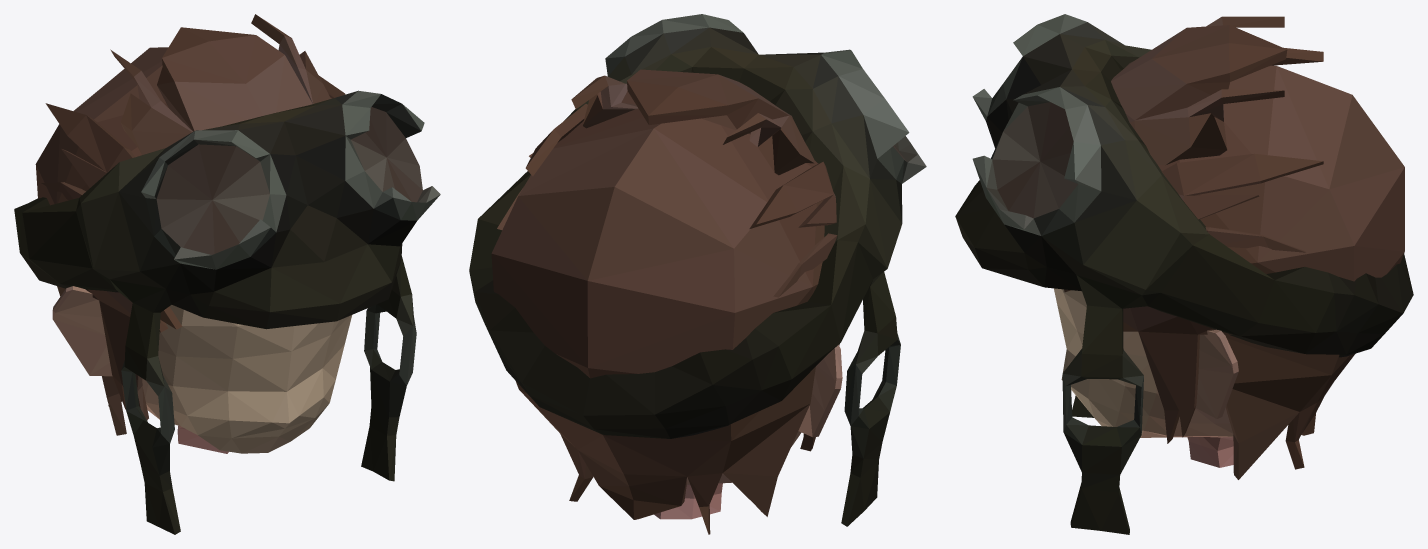
The model's file is helm_lightskin_spike_brown_goggles.fbx.
3 renders of one model, left to right at view 1: azimuth 30°, elevation 25°; view 2: azimuth 150°, elevation 25°; view 3: azimuth 270°, elevation 25°, orthographic. The views are drawn at different scales.
Parts seen in each view (by area): view 1: helm_lightskin_spike_brown_goggles; view 2: helm_lightskin_spike_brown_goggles; view 3: helm_lightskin_spike_brown_goggles.
Part boxes in pixels (left/top/right/bottom): helm_lightskin_spike_brown_goggles: left=14, top=14, right=440, bottom=534; helm_lightskin_spike_brown_goggles: left=469, top=14, right=926, bottom=534; helm_lightskin_spike_brown_goggles: left=955, top=14, right=1413, bottom=534.
Bounding box in the file's own units: 1.21 × 1.45 × 1.39.
